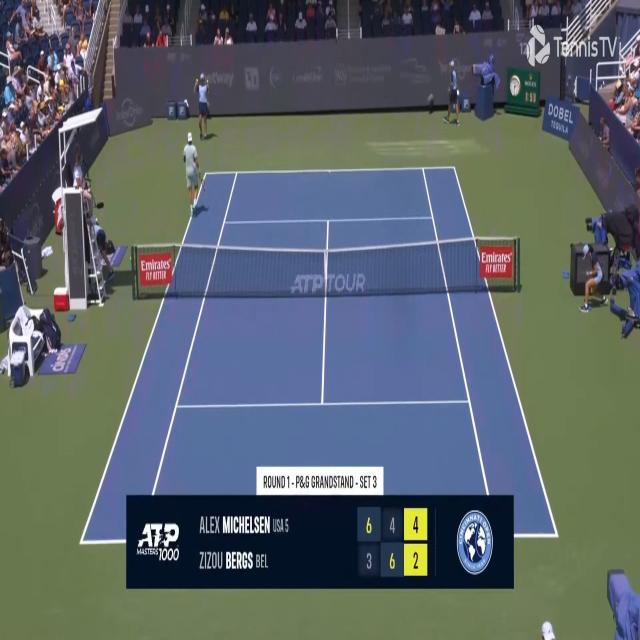tennis-player: (181, 129, 208, 218)
